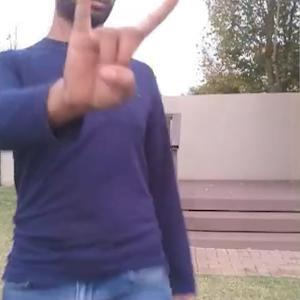takeoff-hand: (56, 0, 184, 114)
